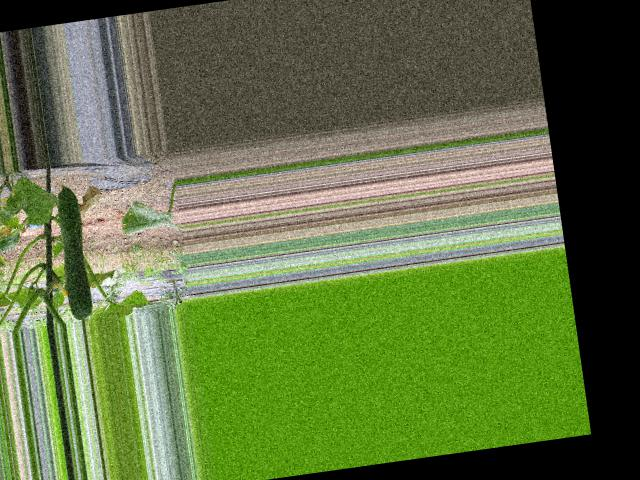cucumber: (52, 181, 95, 320)
